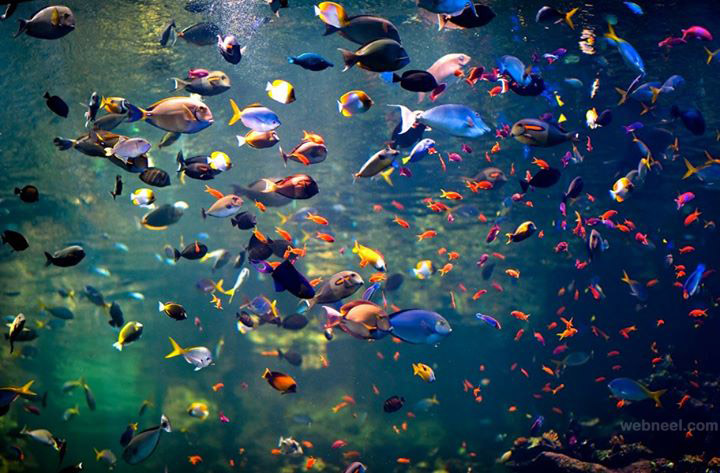fish: (126, 91, 232, 134), (390, 98, 483, 139), (375, 309, 456, 347), (512, 118, 588, 154), (262, 165, 332, 203), (335, 42, 425, 66), (300, 270, 367, 302), (131, 203, 193, 225), (403, 358, 445, 384)
